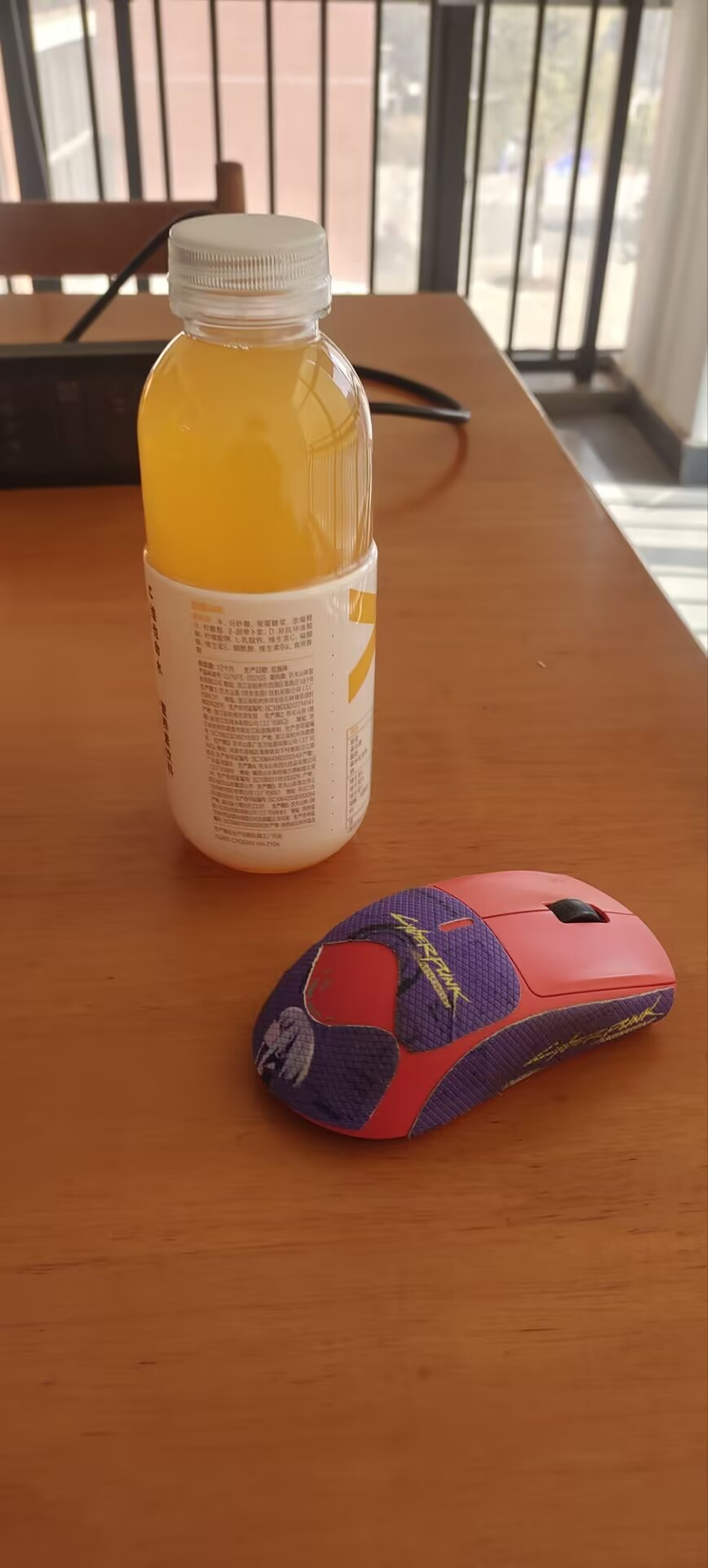redbull: (110, 226, 387, 872)
